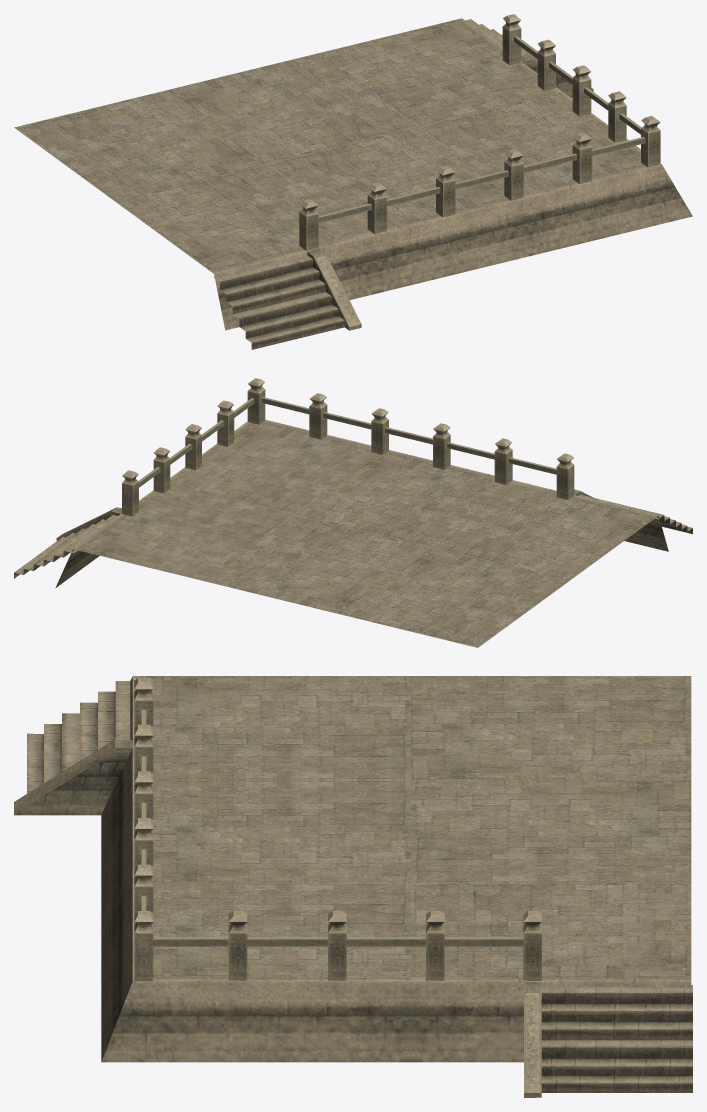
The model's file is desert_tower02.fbx.
The picture shows the model from 3 angles, top to bottom: view 1: azimuth 30°, elevation 25°; view 2: azimuth 150°, elevation 25°; view 3: azimuth 270°, elevation 25°; orthographic projection. The views are drawn at different scales.
Parts seen in each view (by area): view 1: desert_tower02_04; view 2: desert_tower02_04; view 3: desert_tower02_04.
Boxes of the visible parts, box(x1,y1,x2,y2) form: desert_tower02_04: box(14, 14, 692, 349); desert_tower02_04: box(14, 378, 692, 647); desert_tower02_04: box(14, 676, 692, 1097).
Bounding box in the file's own units: 42.52 × 7.32 × 34.43.
